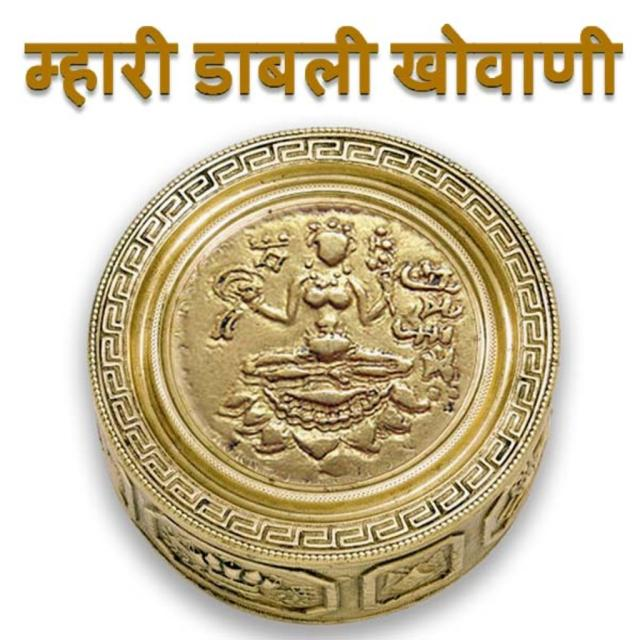Coin: (89, 120, 558, 622)
